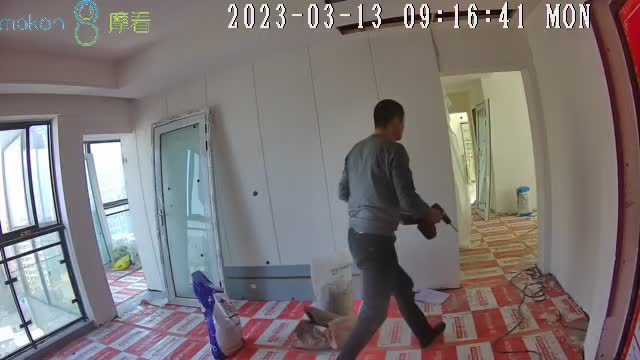people: (337, 98, 446, 360)
window: (1, 124, 89, 359)
